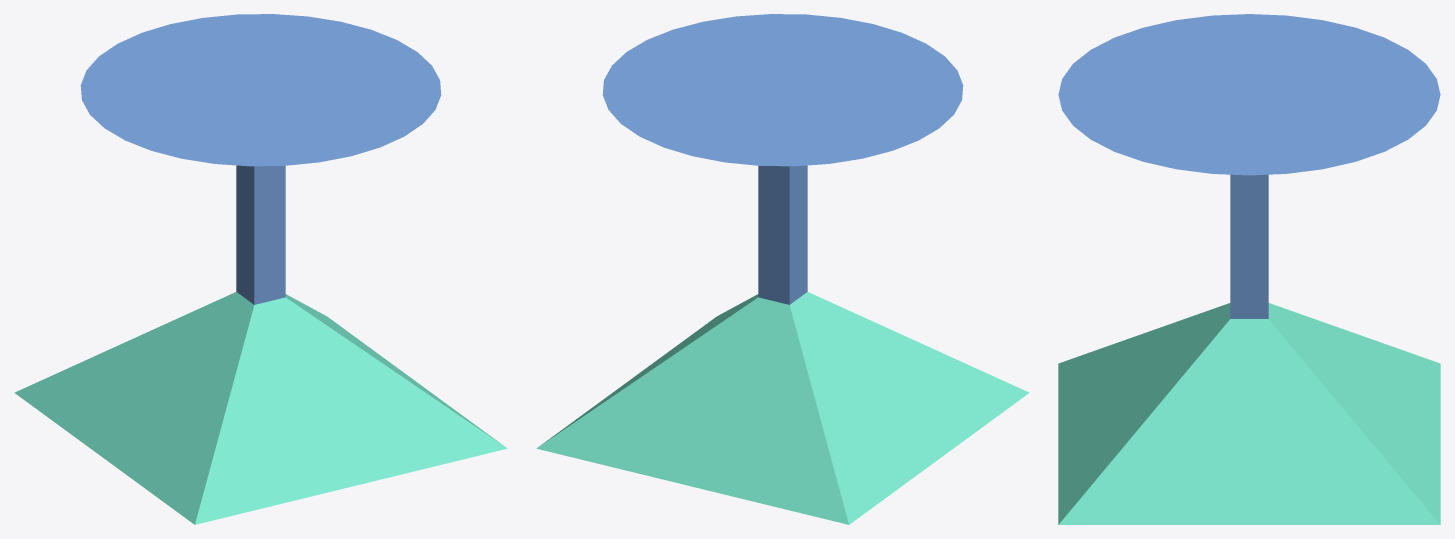
File: drinkGlass.fbx
3 renders of one model, left to right at view 1: azimuth 30°, elevation 25°; view 2: azimuth 150°, elevation 25°; view 3: azimuth 270°, elevation 25°, orthographic. The views are drawn at different scales.
Parts seen in each view (by area): view 1: Cube, Cone, Cube.001; view 2: Cube, Cone, Cube.001; view 3: Cube, Cone, Cube.001.
Boxes of the visible parts, box(x1,y1,x2,y2) form: Cube: box(14, 292, 507, 524); Cone: box(80, 14, 441, 166); Cube.001: box(236, 165, 285, 304); Cube: box(536, 292, 1029, 524); Cone: box(602, 14, 963, 166); Cube.001: box(758, 165, 807, 304); Cube: box(1058, 303, 1440, 524); Cone: box(1058, 14, 1440, 175); Cube.001: box(1230, 174, 1268, 318).
Size of the model in its own units: 200 by 202 by 200.
